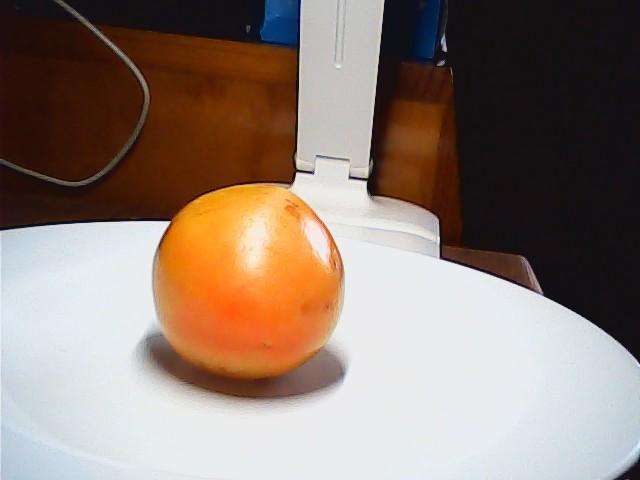verde: (151, 181, 353, 386)
